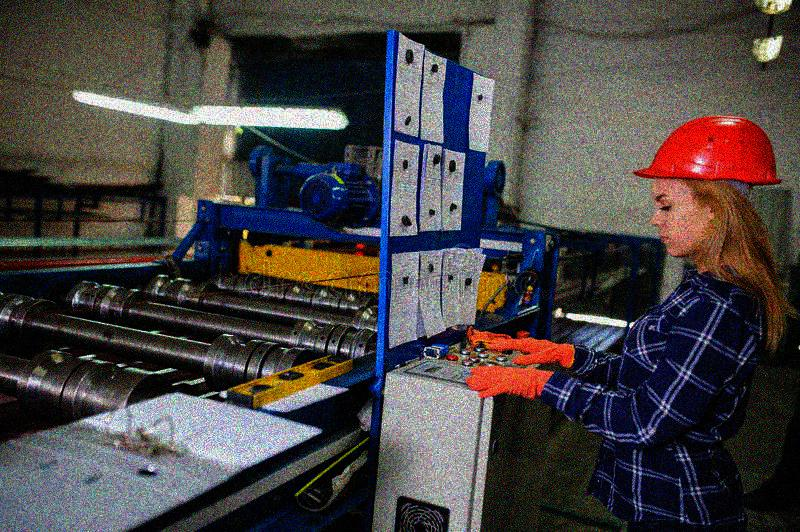helmet: (629, 115, 782, 257)
